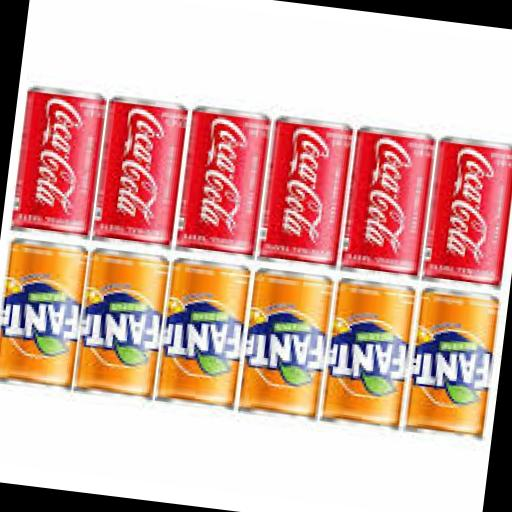Coca: (5, 80, 108, 239), (89, 95, 196, 248), (172, 99, 274, 258), (338, 122, 439, 281), (255, 112, 354, 270), (418, 130, 512, 292)
